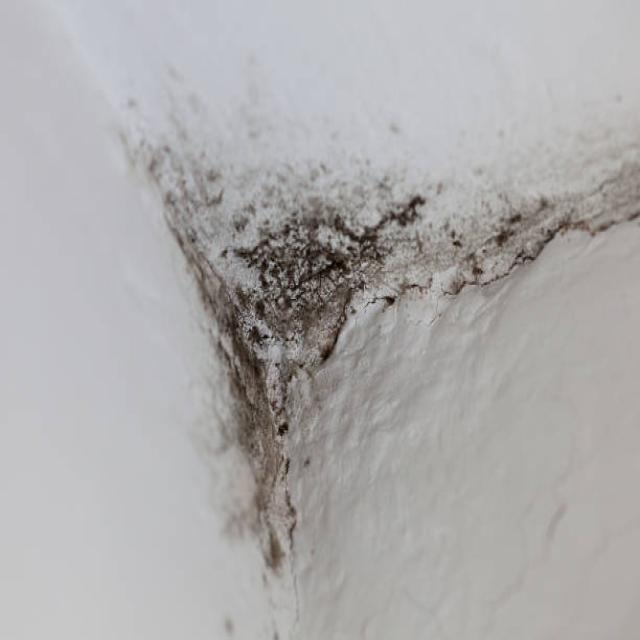stain_mould: (118, 46, 639, 597)
